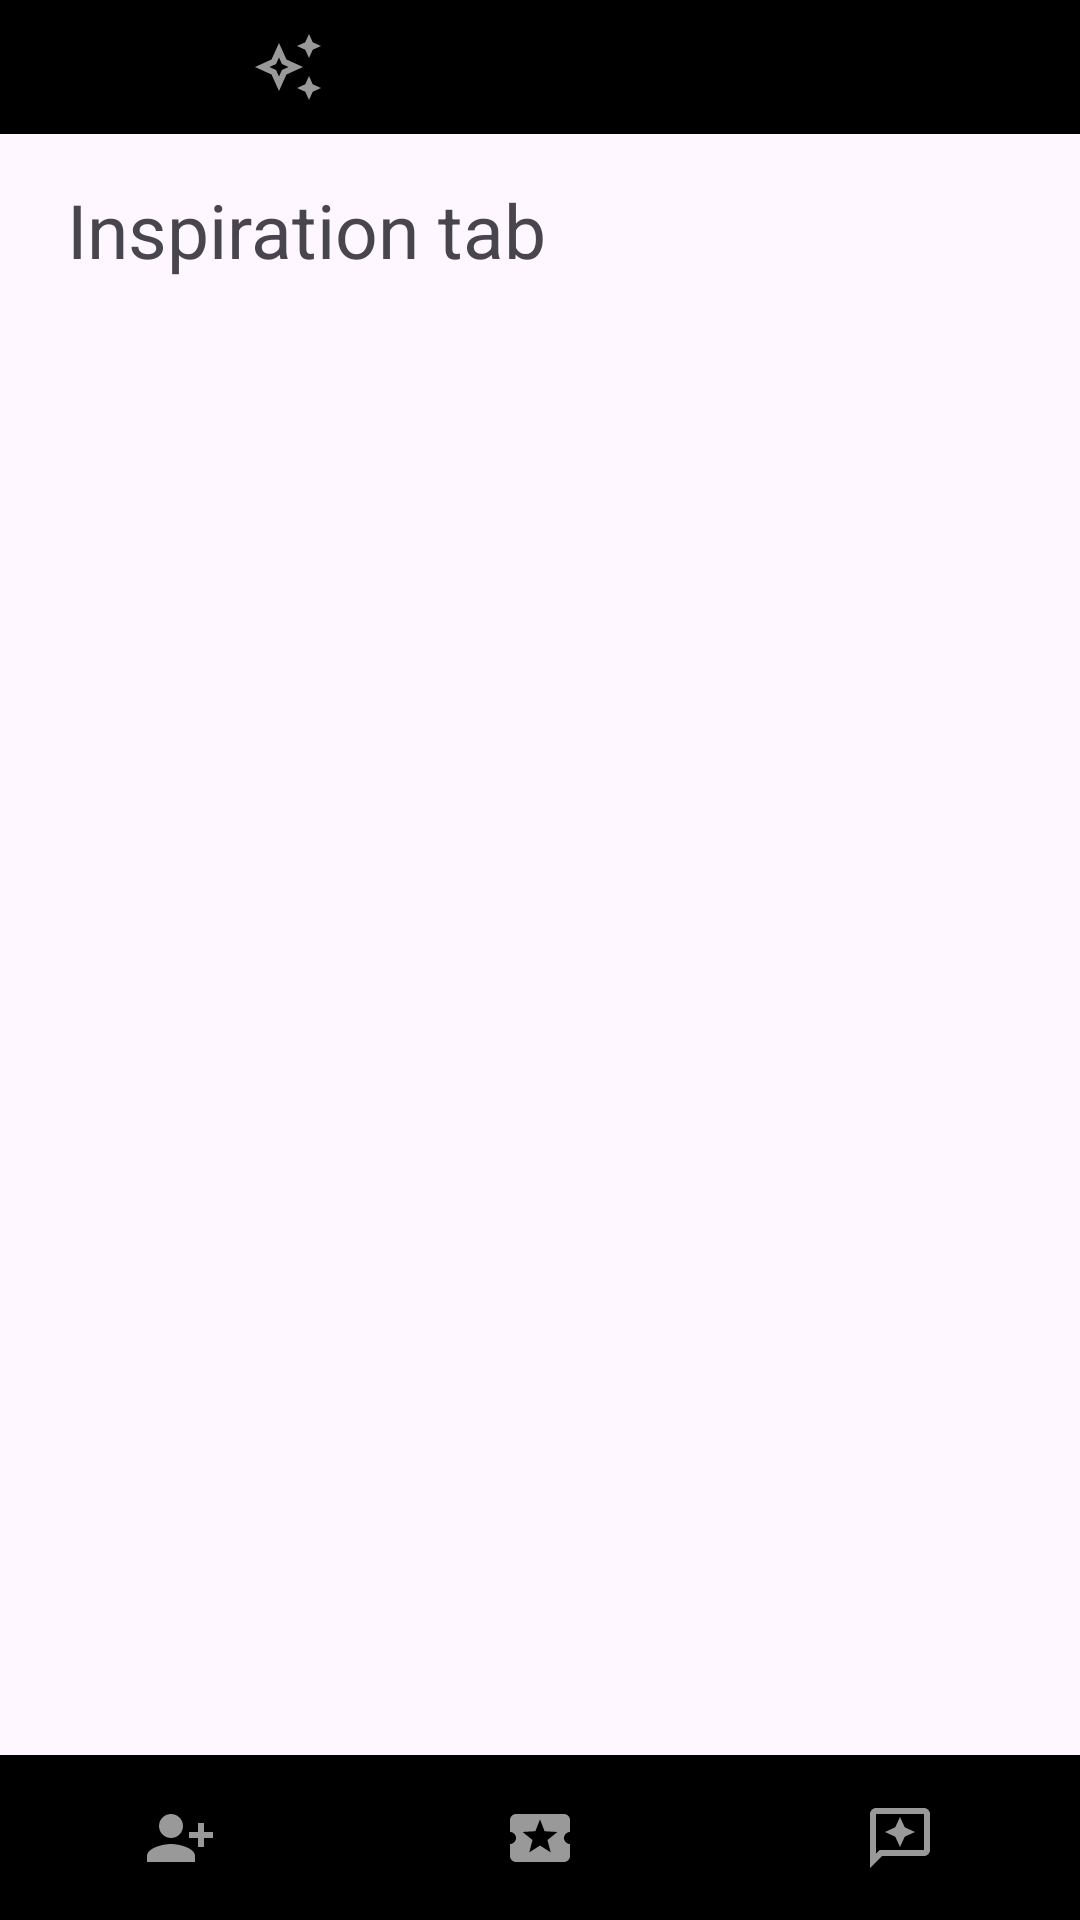

Locate icon controls on the screen. Image size 1080*1920, boxes as box=[x1, y1, x2, y2].
local activity: box=[510, 1814, 570, 1862]
person add: box=[147, 1814, 213, 1862]
reviews: box=[870, 1808, 930, 1868]
